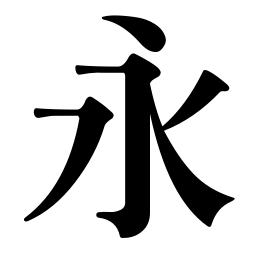D: (99, 12, 173, 49)
HSZ: (118, 52, 162, 98)
Hs: (74, 62, 107, 78)
Ne: (190, 182, 238, 230)
PNc: (152, 110, 179, 144)
PZe: (22, 197, 57, 224)
Ps: (193, 66, 232, 103)
SG: (93, 202, 152, 241)
Sm: (122, 149, 151, 190)
TPZ: (71, 95, 115, 136)
Ts: (32, 103, 54, 122)
